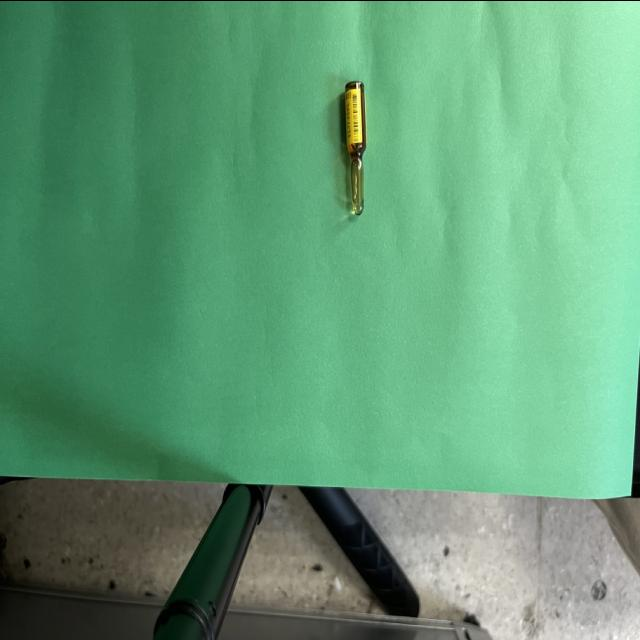Ampoules: (344, 80, 366, 215)
